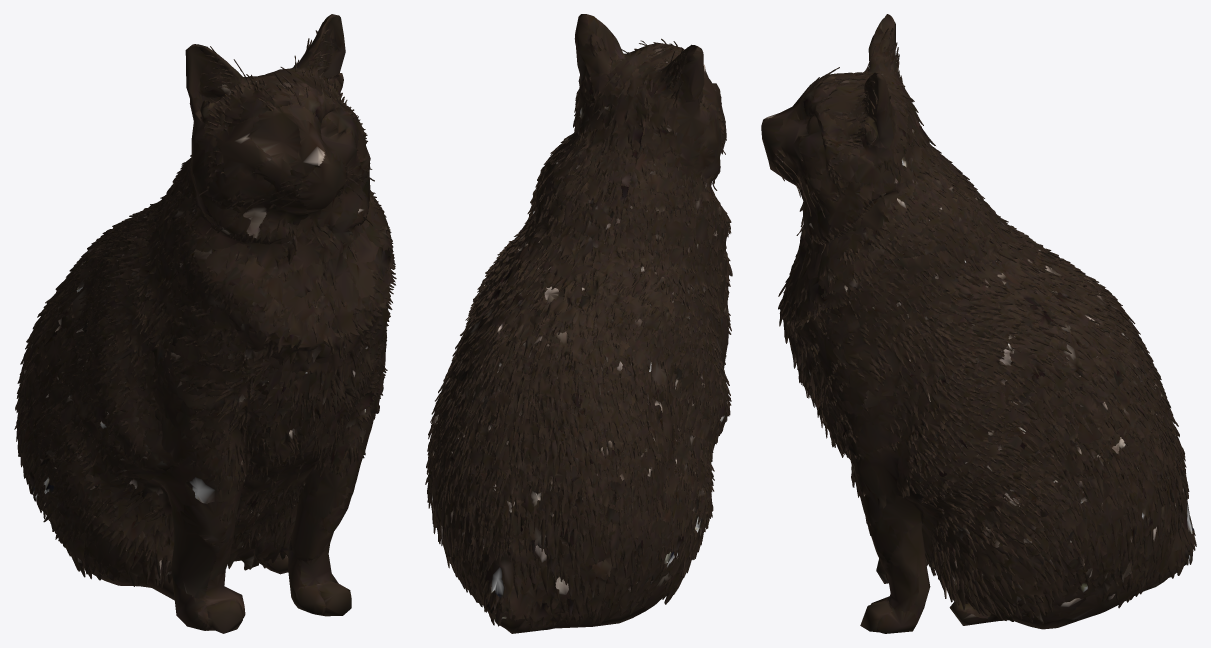
The model's file is moth-optimized.glb.
The picture shows the model from 3 angles, left to right: view 1: azimuth 30°, elevation 25°; view 2: azimuth 150°, elevation 25°; view 3: azimuth 270°, elevation 25°; orthographic projection. The views are drawn at different scales.
Parts seen in each view (by area): view 1: Moth; view 2: Moth; view 3: Moth.
Part boxes in pixels (bbox=[...]): Moth: bbox=[14, 14, 396, 633]; Moth: bbox=[425, 14, 732, 633]; Moth: bbox=[761, 14, 1196, 633].
Size of the model in its own units: 1 by 1.9 by 1.36.
